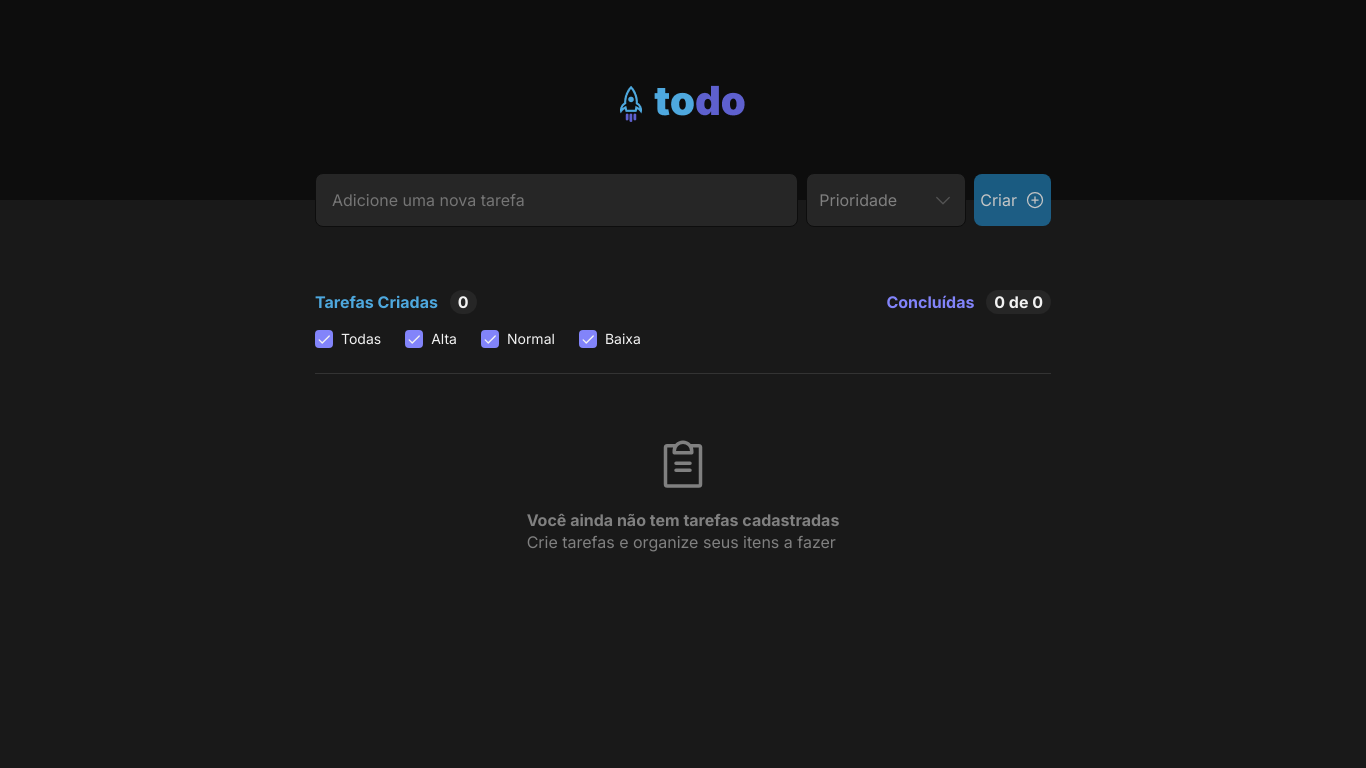
Test case: Edit a task › should be able to edit a task description
Type "Task test" into the field named "description" at x=557, y=200, box [315,173,798,227]
Click the dropdown labelled "Prioridade" at x=886, y=200, box [806,173,966,227]
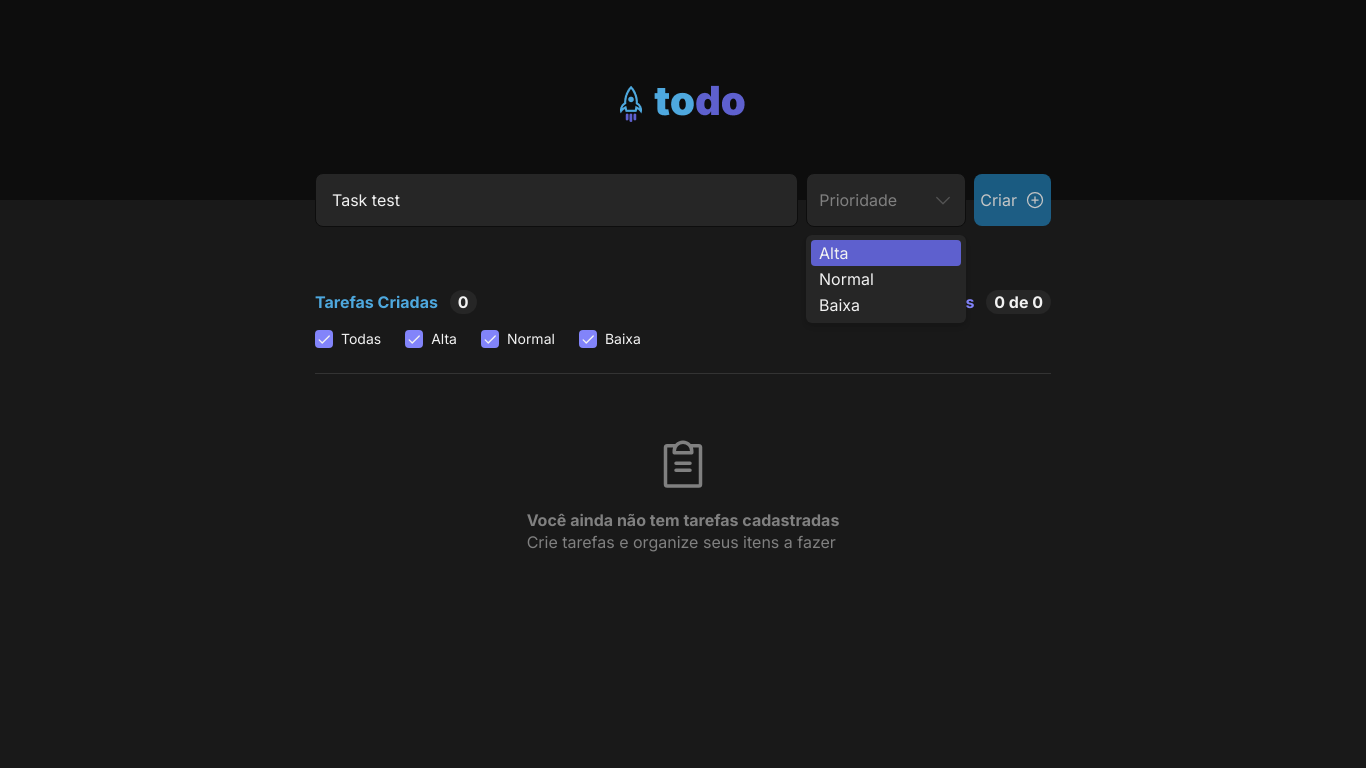
Click the option with aria-label "Alta" at x=886, y=253, box [811,240,961,266]
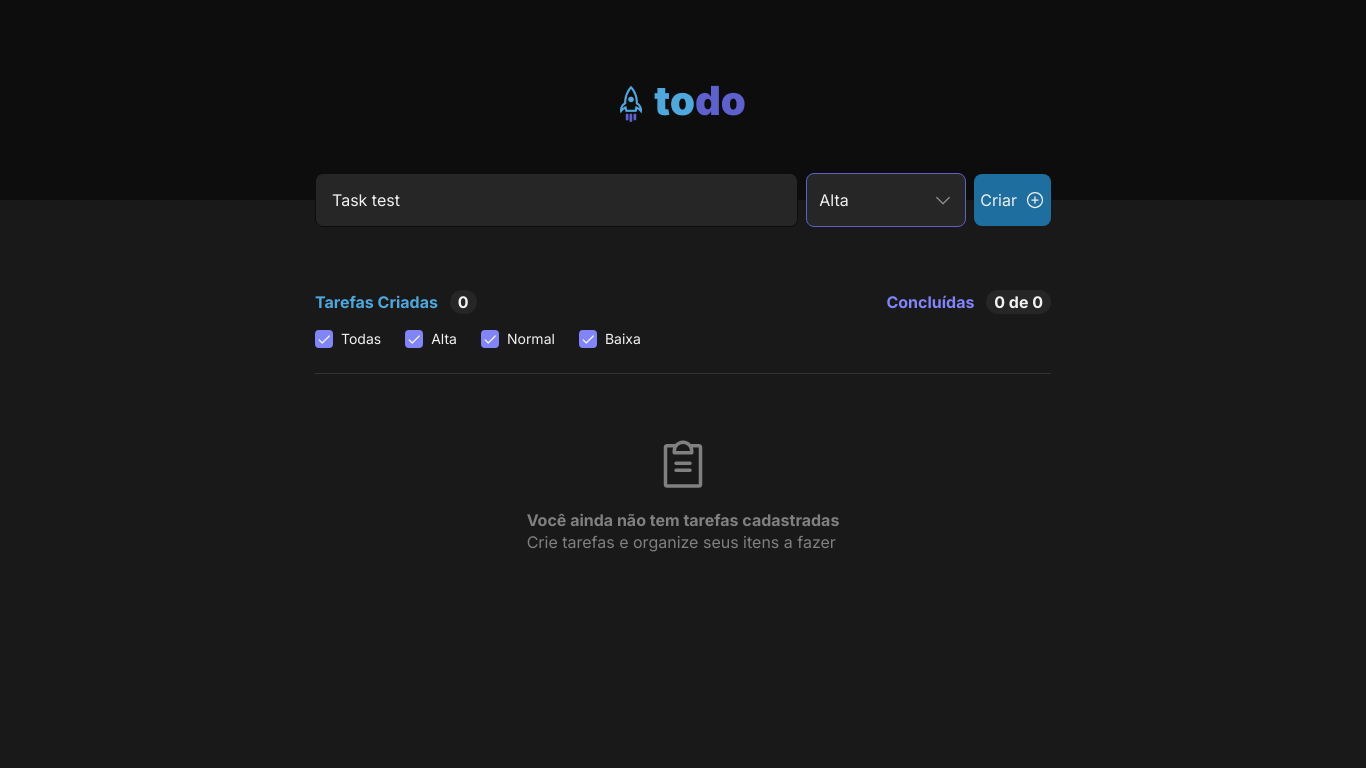
Click the button "Criar" at x=1013, y=200, box [974,174,1051,226]
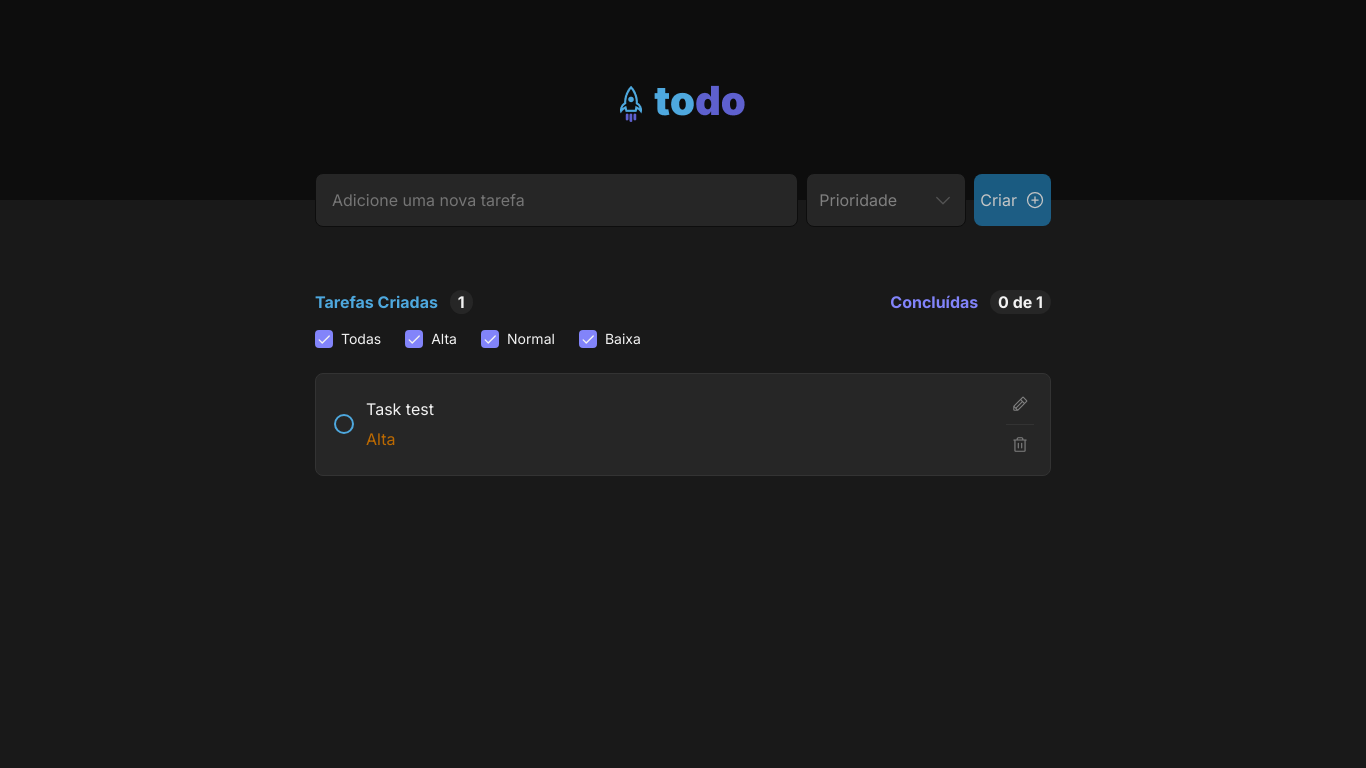
Click the button named "Editar tarefa" at x=1020, y=404, box [1006,390,1034,418]
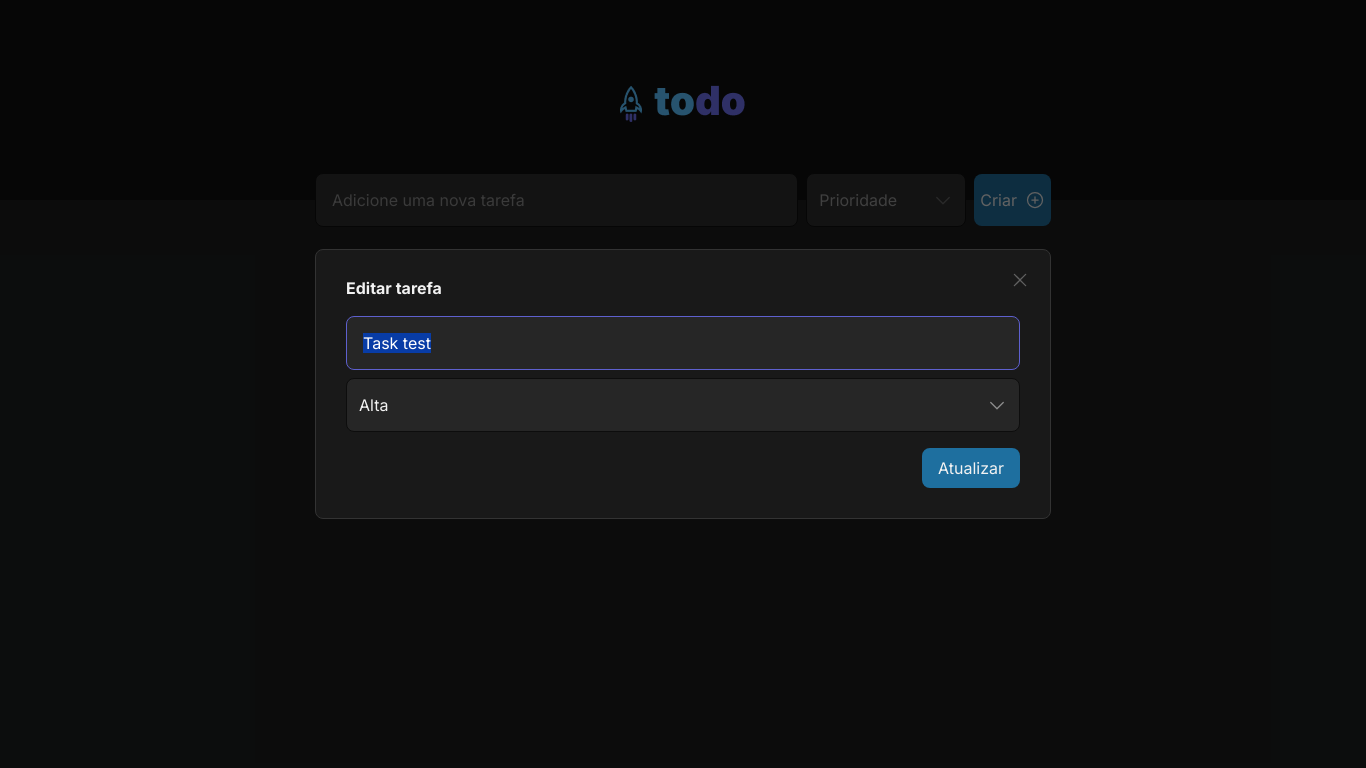
Type "Task test updated" into the field named "description" at x=683, y=343, box [346,316,1020,370]
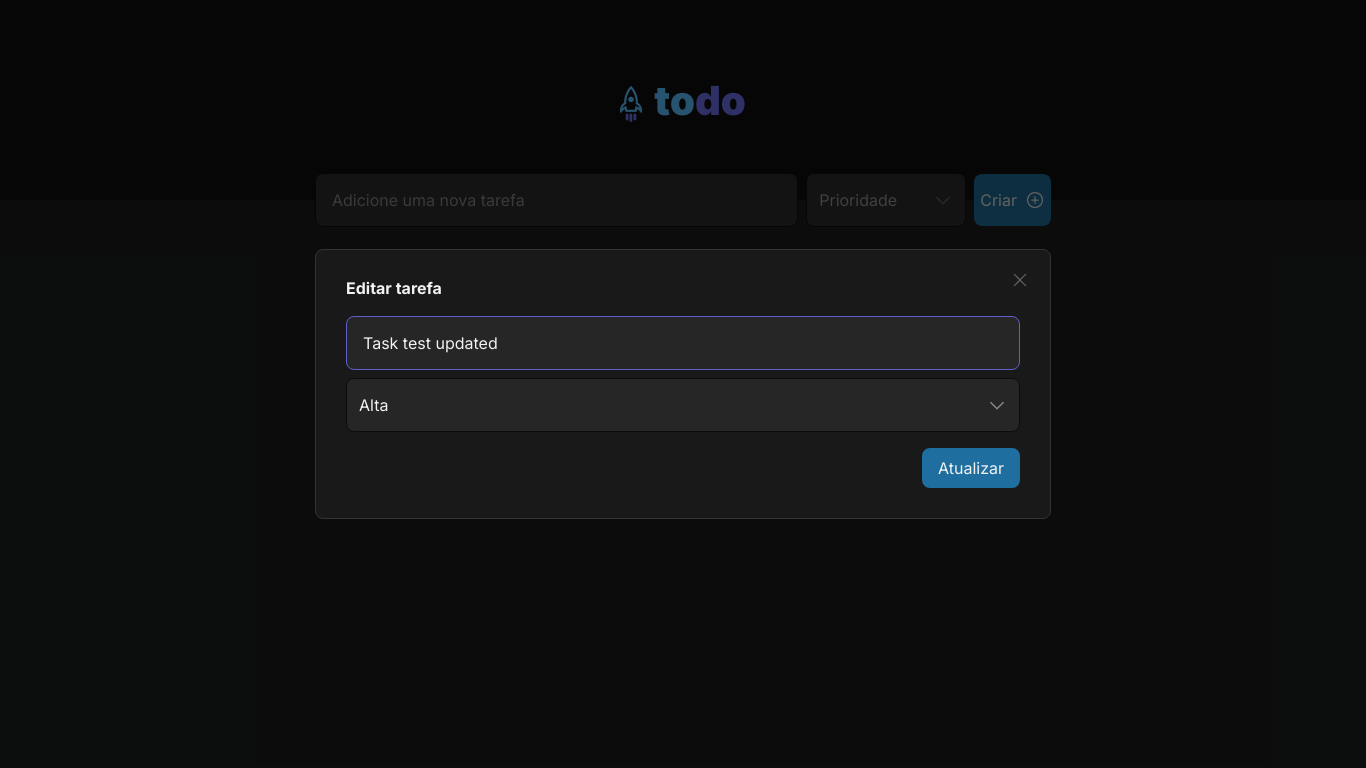
Click the button "Atualizar" at x=971, y=468, box [922,448,1020,488]
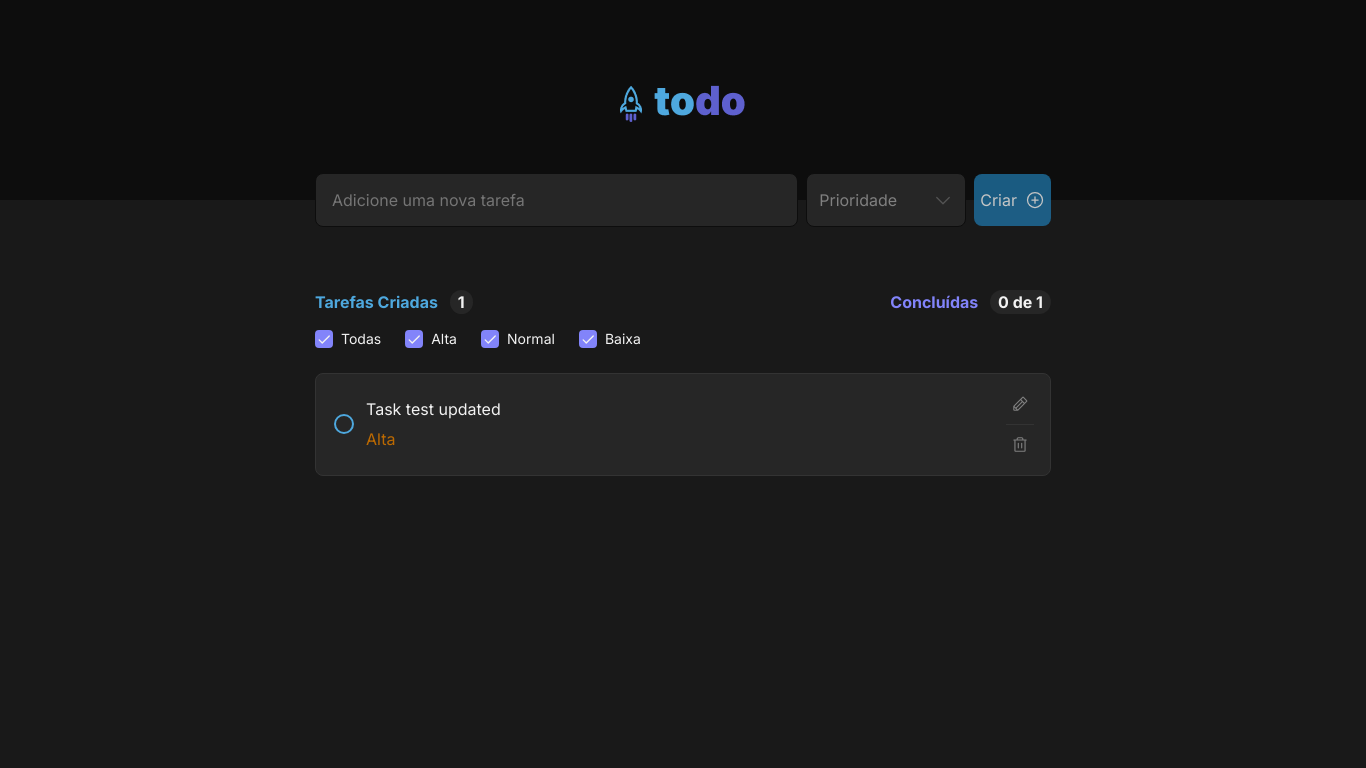
Result: the text "Task test updated" is shown at [366,399,501,419]
